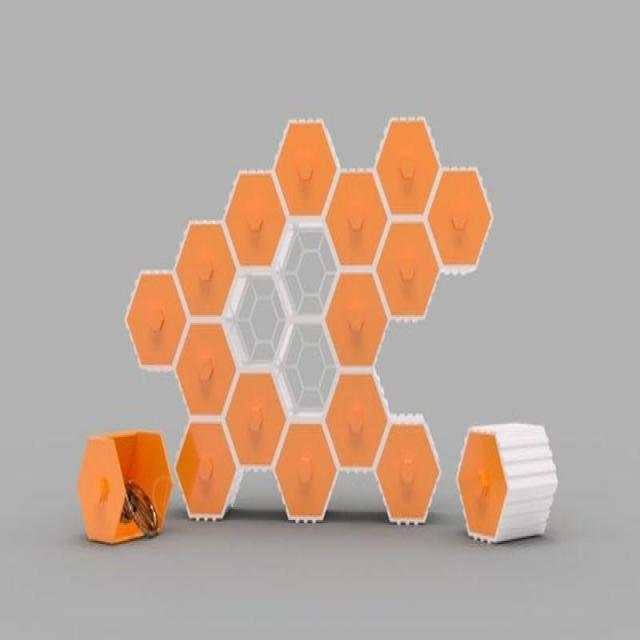Without deffect: (77, 98, 561, 577)
